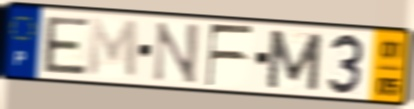3: (325, 32, 366, 97)
E: (43, 15, 92, 77)
F: (205, 22, 257, 89)
M: (264, 27, 325, 93), (86, 16, 140, 82)
N: (150, 20, 202, 86)
